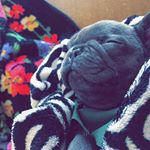puppy: (58, 10, 150, 121)
